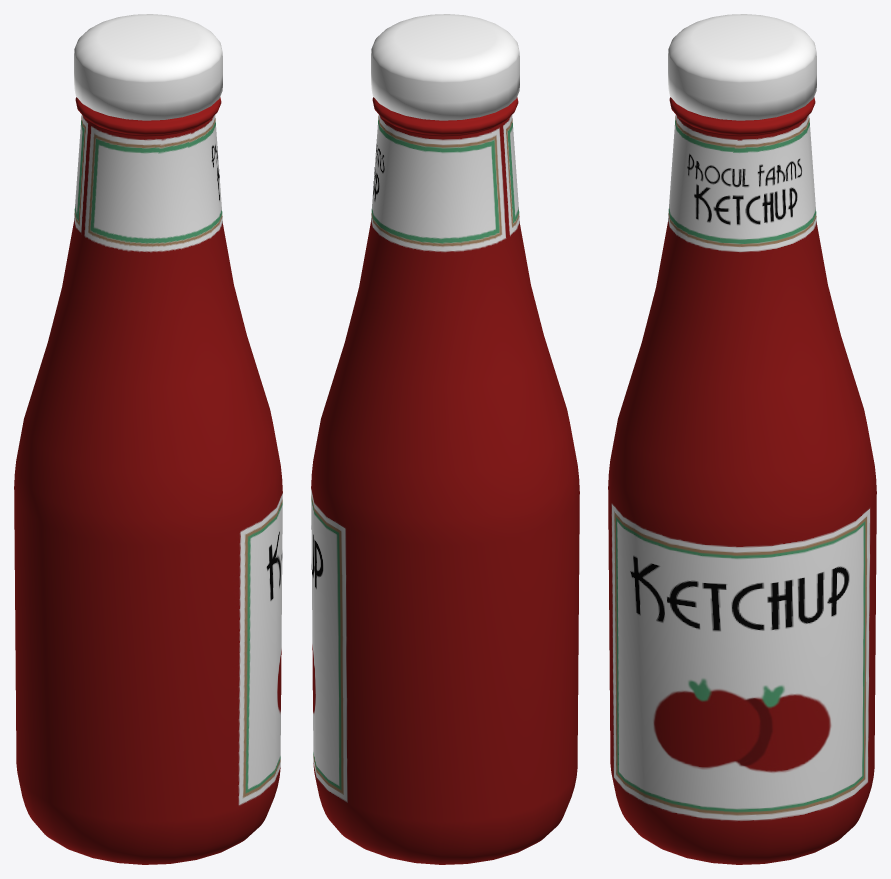
Rendered from GOW_Fridge_Prop+Ketchup_01.fbx.
3 views of the same model, side by side, from view 1: azimuth 30°, elevation 25°; view 2: azimuth 150°, elevation 25°; view 3: azimuth 270°, elevation 25° (orthographic).
Visible parts, largest first — view 1: GOW_Fridge_Prop_Ketchup_01; view 2: GOW_Fridge_Prop_Ketchup_01; view 3: GOW_Fridge_Prop_Ketchup_01.
Boxes of the visible parts, bbox=[...] form: GOW_Fridge_Prop_Ketchup_01: bbox=[14, 14, 282, 864]; GOW_Fridge_Prop_Ketchup_01: bbox=[311, 14, 579, 864]; GOW_Fridge_Prop_Ketchup_01: bbox=[608, 14, 876, 864].
Size of the model in its own units: 7.01 by 22.78 by 7.01.
Materials: 1 (1 with a texture image).
